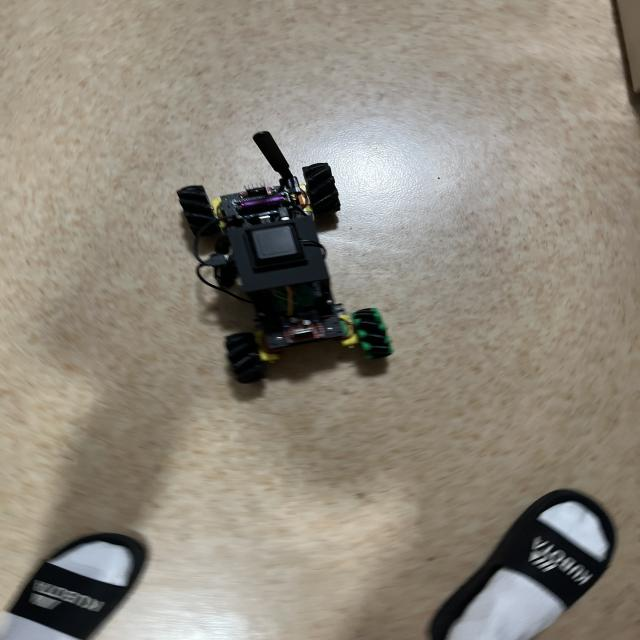robot: (177, 132, 392, 384)
